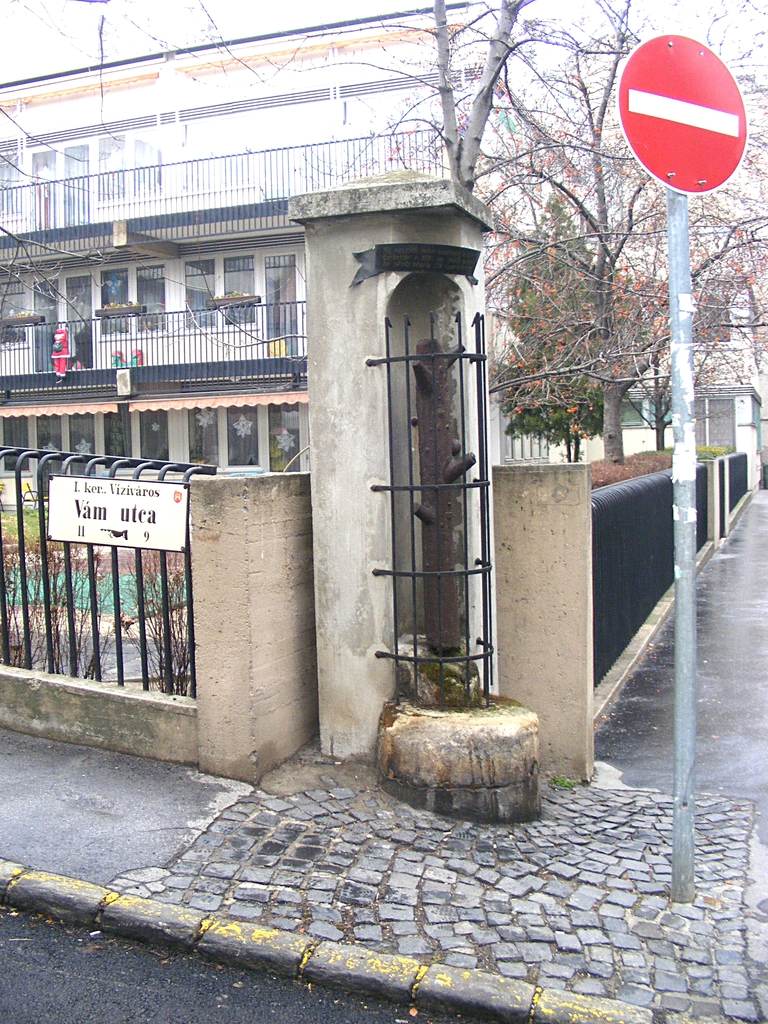Tree: (453, 0, 767, 473), (503, 200, 627, 466)
